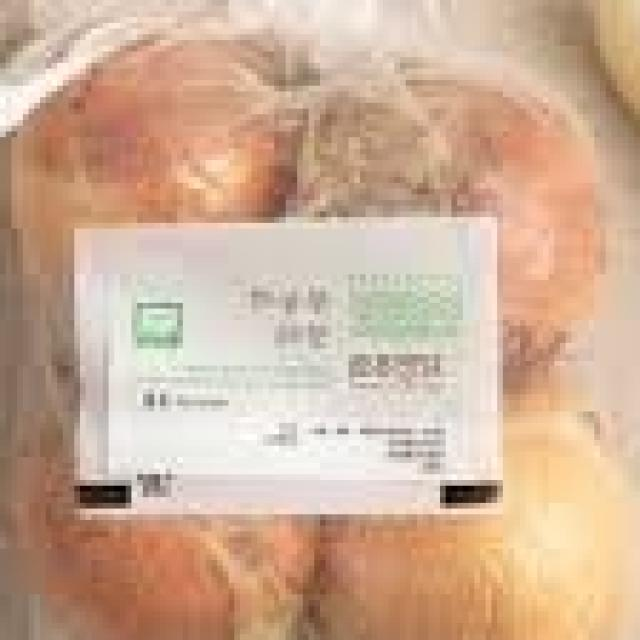onion: (35, 68, 572, 640)
